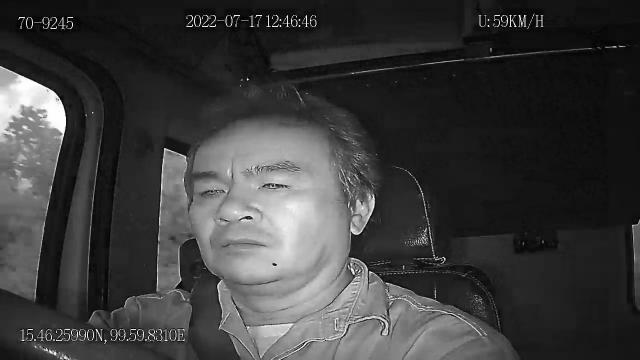SafeDriving: (252, 170, 302, 197), (190, 174, 232, 204)
Seatbelt: (186, 270, 244, 360)
